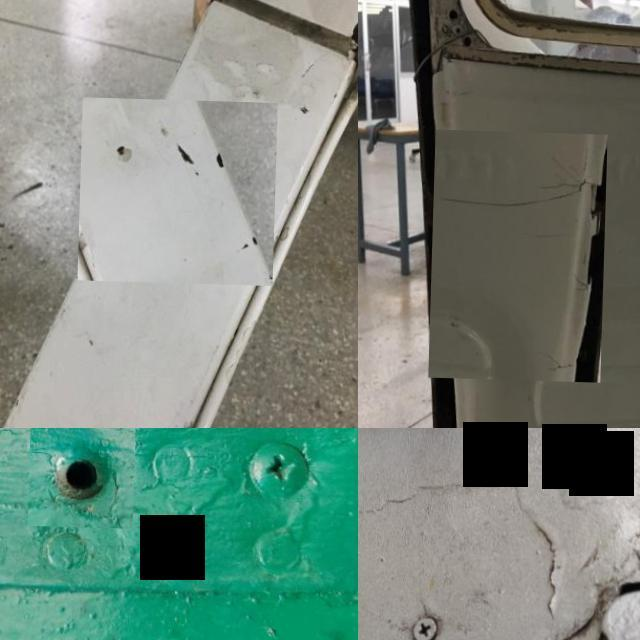Crack: (432, 129, 610, 381), (80, 95, 279, 284)
Missing_Fastener: (30, 428, 137, 527)
